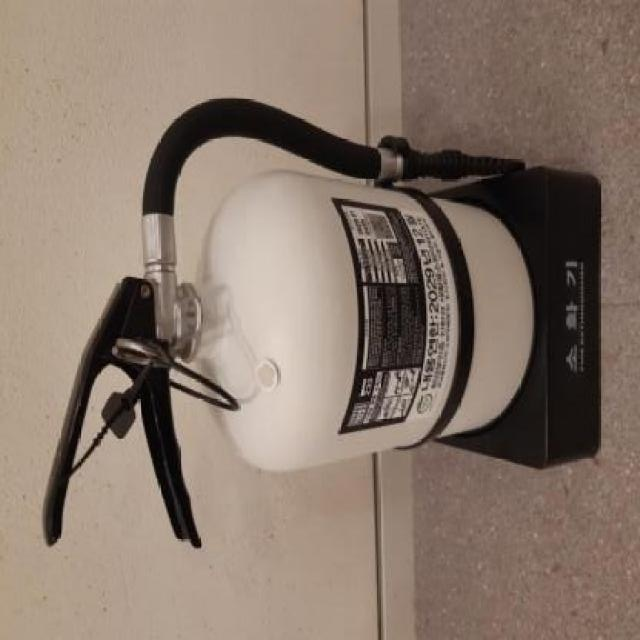fire extinguisher: (40, 97, 535, 548)
